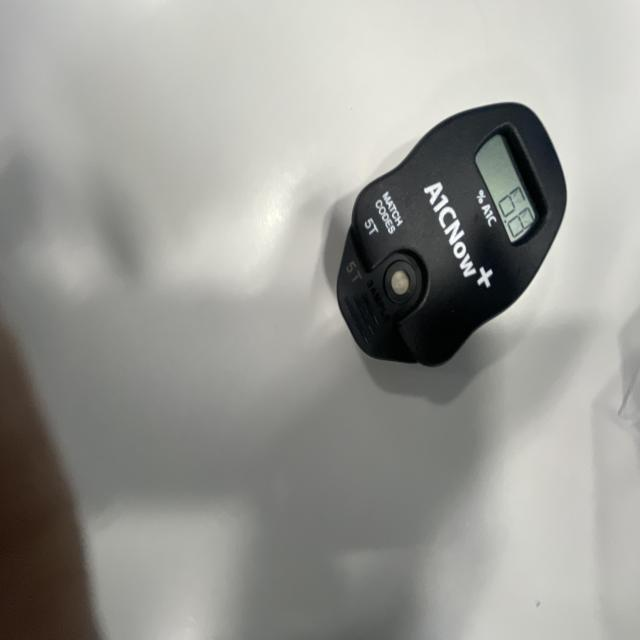hba1c: (334, 102, 567, 370)
